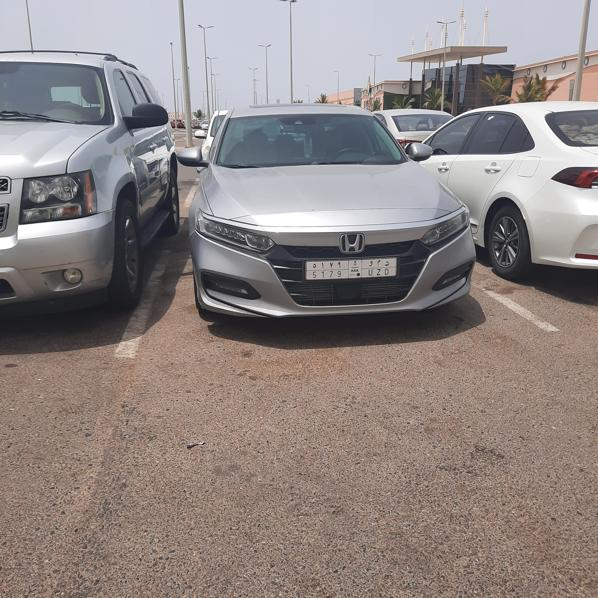numberplate: (305, 256, 401, 279)
